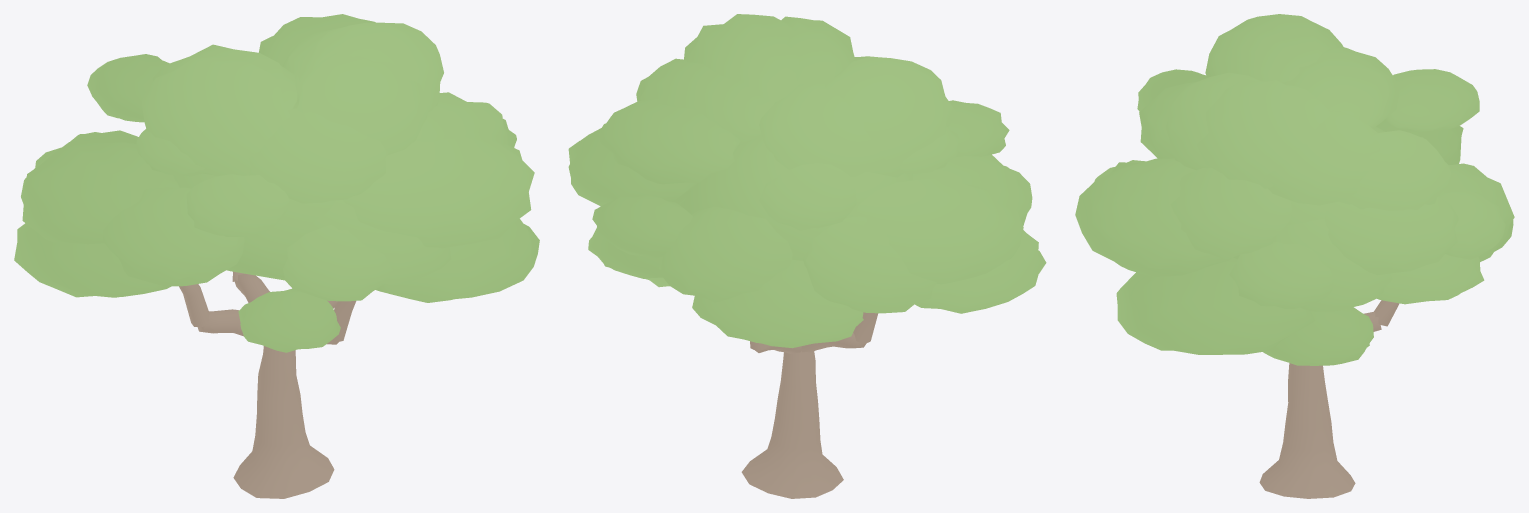
Rendered from Blender_Oak_1.glb.
The picture shows the model from 3 angles, left to right: view 1: azimuth 30°, elevation 25°; view 2: azimuth 150°, elevation 25°; view 3: azimuth 270°, elevation 25°; orthographic projection. The views are drawn at different scales.
Visible parts, largest first — view 1: Blender_Oak_1; view 2: Blender_Oak_1; view 3: Blender_Oak_1.
Part boxes in pixels (<box>): Blender_Oak_1: <box>14,14,539,498</box>; Blender_Oak_1: <box>568,14,1046,498</box>; Blender_Oak_1: <box>1075,14,1514,498</box>.
Size of the model in its own units: 20.08 by 18.52 by 17.07.
